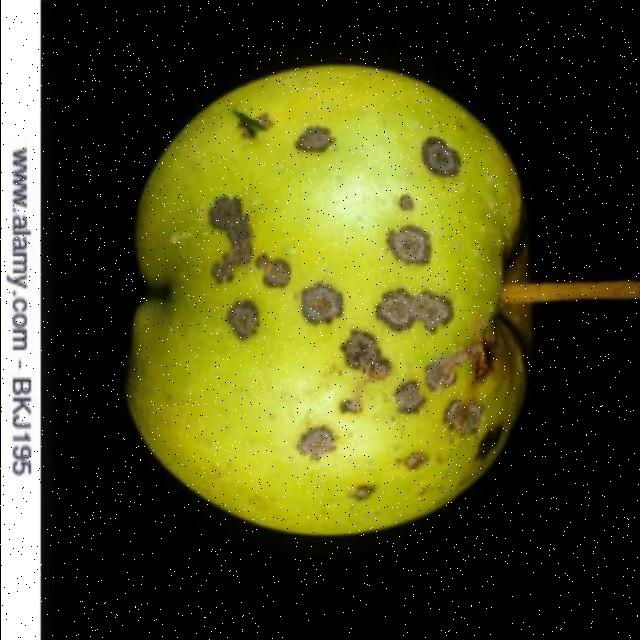SCAB: (106, 68, 558, 566)
